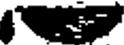Basket: (0, 3, 124, 45)
